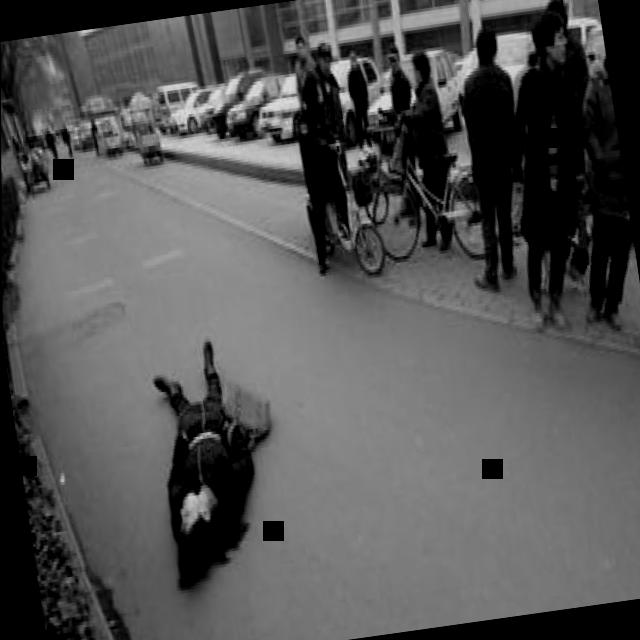Fall-Detected: (128, 324, 303, 586)
